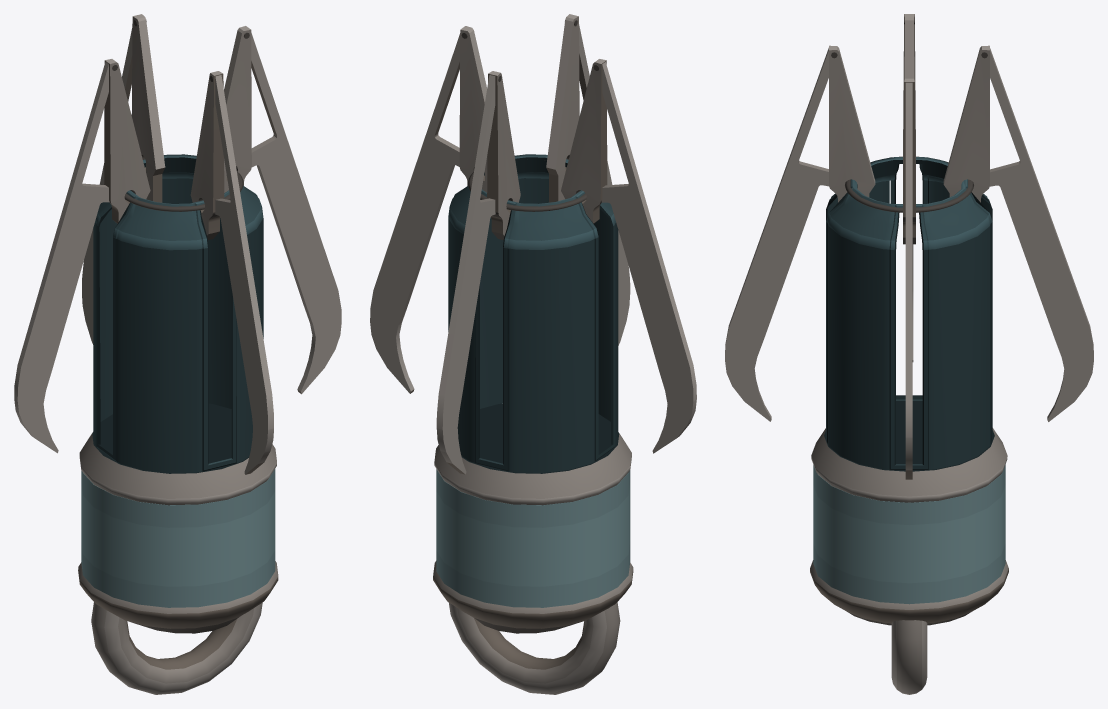
File: hook_exported.fbx
The picture shows the model from 3 angles, left to right: view 1: azimuth 30°, elevation 25°; view 2: azimuth 150°, elevation 25°; view 3: azimuth 270°, elevation 25°; orthographic projection.
Parts seen in each view (by area): view 1: cyl_maxi, pCylinder21, blade_02, blade_03, pCylinder22, blade_04, handle, base_02, pCylinder23, base_01, base_04, base_03 (+2 smaller); view 2: cyl_maxi, pCylinder21, blade_02, blade_03, pCylinder22, blade_01, handle, base_02, pCylinder23, base_04, base_01, base_03 (+2 smaller); view 3: cyl_maxi, pCylinder21, blade_04, blade_01, pCylinder22, base_04, base_01, pCylinder23, blade_03, handle, base_03, base_02 (+1 smaller).
Boxes of the visible parts, left/top/right/bottom form: cyl_maxi: left=93, top=154, right=263, bottom=472; pCylinder21: left=81, top=469, right=275, bottom=607; blade_02: left=14, top=61, right=109, bottom=453; blade_03: left=251, top=33, right=341, bottom=394; pCylinder22: left=79, top=403, right=276, bottom=505; blade_04: left=215, top=75, right=273, bottom=474; handle: left=91, top=602, right=262, bottom=694; base_02: left=104, top=59, right=150, bottom=223; pCylinder23: left=78, top=561, right=278, bottom=633; base_01: left=131, top=14, right=165, bottom=202; base_04: left=190, top=71, right=224, bottom=239; base_03: left=224, top=26, right=251, bottom=192; cyl_maxi: left=448, top=154, right=618, bottom=472; pCylinder21: left=436, top=469, right=630, bottom=607; blade_02: left=601, top=62, right=696, bottom=453; blade_03: left=370, top=33, right=460, bottom=393; pCylinder22: left=434, top=403, right=631, bottom=505; blade_01: left=436, top=75, right=495, bottom=474; handle: left=448, top=602, right=620, bottom=694; base_02: left=561, top=59, right=607, bottom=223; pCylinder23: left=433, top=561, right=633, bottom=633; base_04: left=546, top=14, right=579, bottom=202; base_01: left=487, top=71, right=520, bottom=240; base_03: left=459, top=26, right=487, bottom=192; cyl_maxi: left=826, top=157, right=992, bottom=469; pCylinder21: left=813, top=464, right=1005, bottom=604; blade_04: left=725, top=48, right=829, bottom=421; blade_01: left=989, top=48, right=1093, bottom=421; pCylinder22: left=811, top=401, right=1007, bottom=502; base_04: left=829, top=45, right=875, bottom=202; base_01: left=943, top=45, right=989, bottom=202; pCylinder23: left=810, top=560, right=1008, bottom=625; blade_03: left=905, top=82, right=912, bottom=479; handle: left=891, top=620, right=927, bottom=694; base_03: left=903, top=78, right=915, bottom=244; base_02: left=903, top=14, right=915, bottom=190.
Size of the model in its own units: 8.9 by 17 by 8.9.
